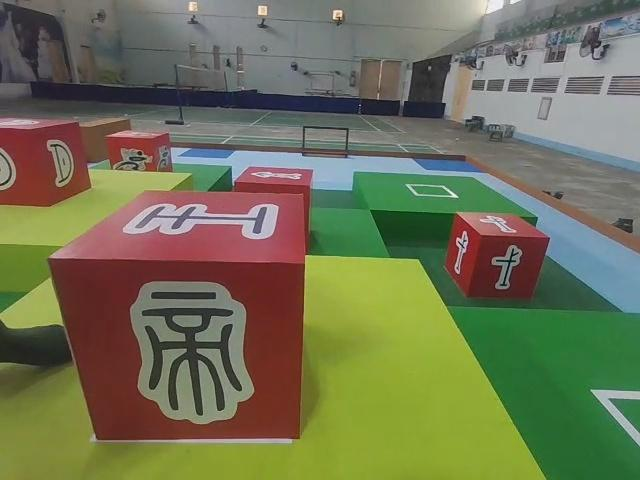R1: (103, 127, 176, 180)
R2 Fake: (51, 187, 311, 448)
R2 Real: (444, 209, 552, 305), (0, 115, 92, 211)
